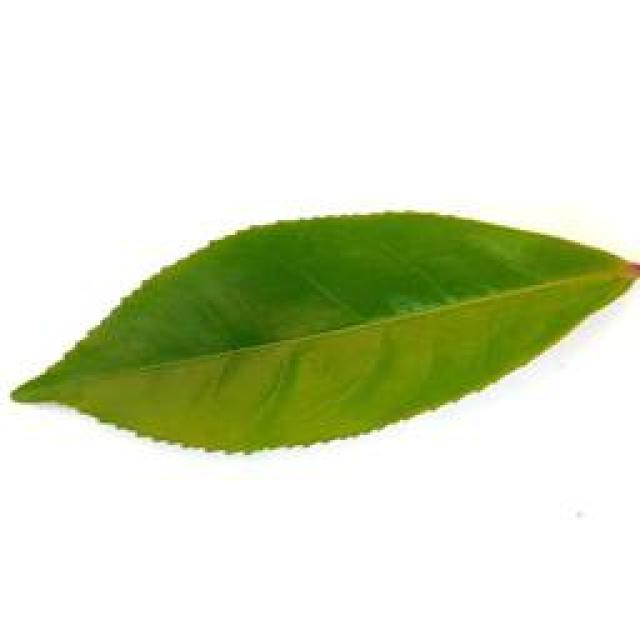Healthy: (1, 189, 634, 459)
